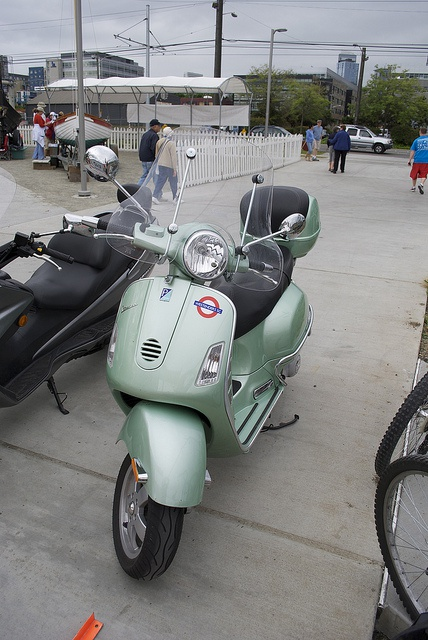non-vehicle: (98, 177, 322, 588), (1, 186, 153, 408)
